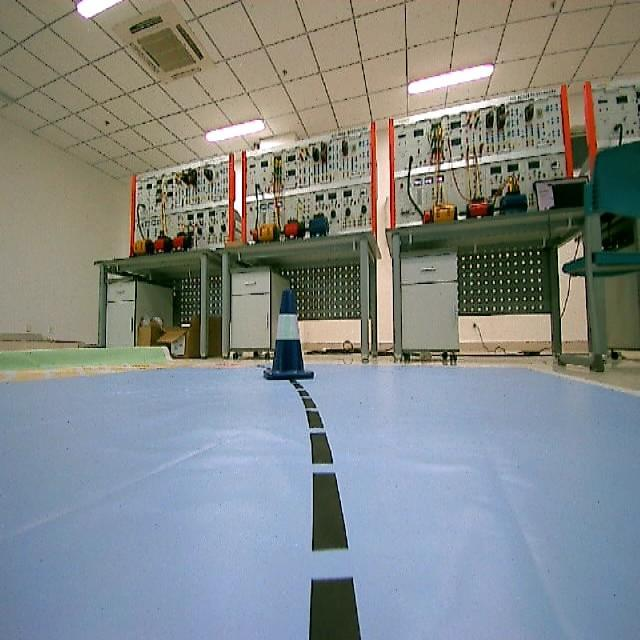obstacle: (263, 283, 318, 387)
